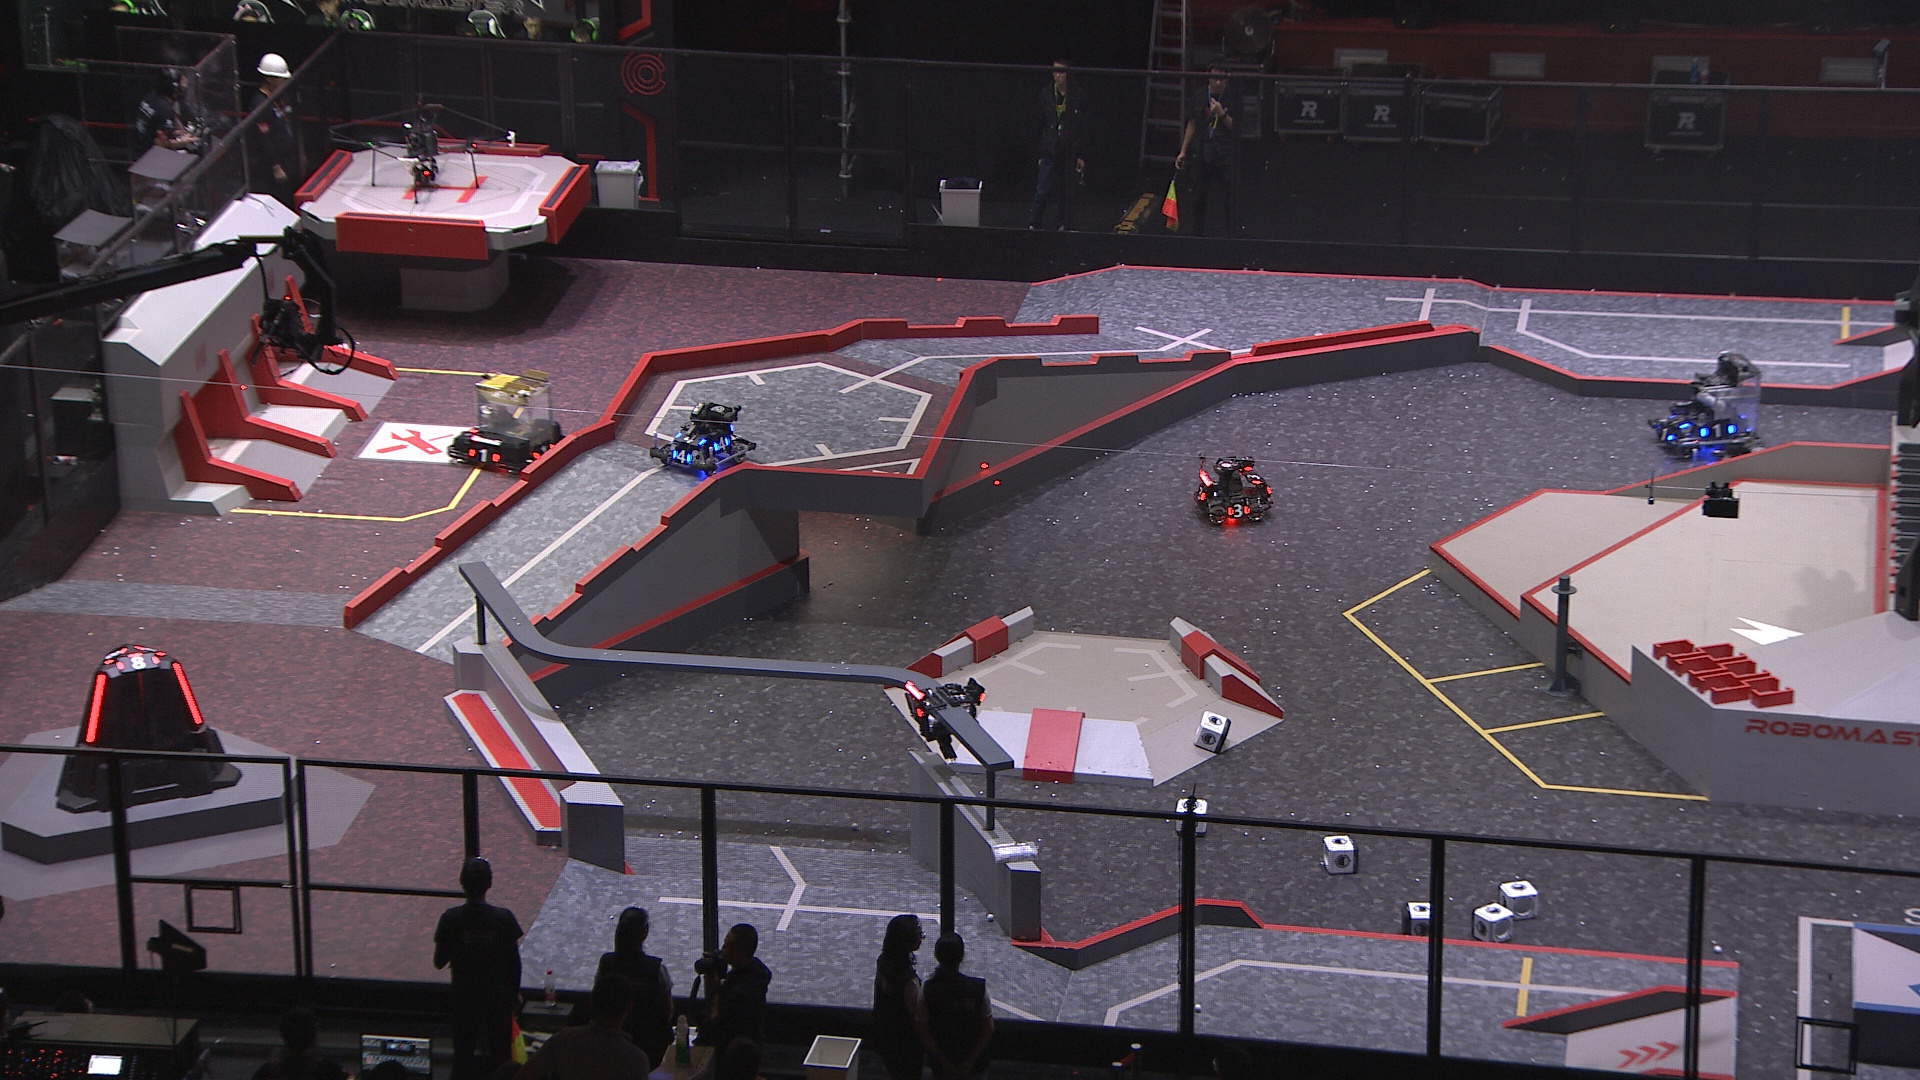armor: (167, 661, 204, 731), (79, 669, 109, 744), (463, 442, 502, 465), (115, 651, 160, 671), (903, 692, 928, 725), (527, 438, 560, 462), (1695, 423, 1738, 439), (675, 427, 708, 447), (1665, 413, 1693, 433), (1222, 501, 1251, 520), (1244, 465, 1266, 489), (1654, 419, 1676, 443), (671, 447, 698, 465), (136, 644, 166, 659), (709, 433, 732, 454), (102, 645, 123, 666), (1191, 483, 1207, 502)
base: (53, 638, 243, 818)
car: (448, 367, 575, 475), (1646, 351, 1768, 460), (647, 400, 760, 479), (1187, 451, 1275, 527)
watcher: (899, 674, 986, 761)
